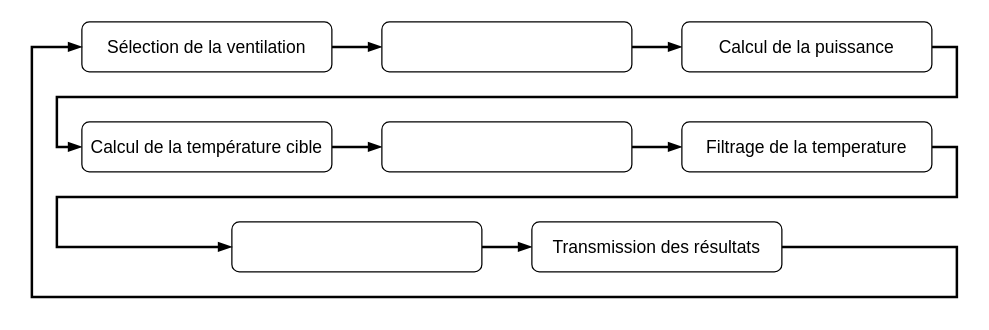
This 989x330 diagram has some shape labels left out. The centre of each missing label's shape, as x and y in pixels:
Acquisition du courant: (506,46)
Calcul des coeficients a1 et b0 du filtre: (506,146)
Correction de la résistance: (356,246)
